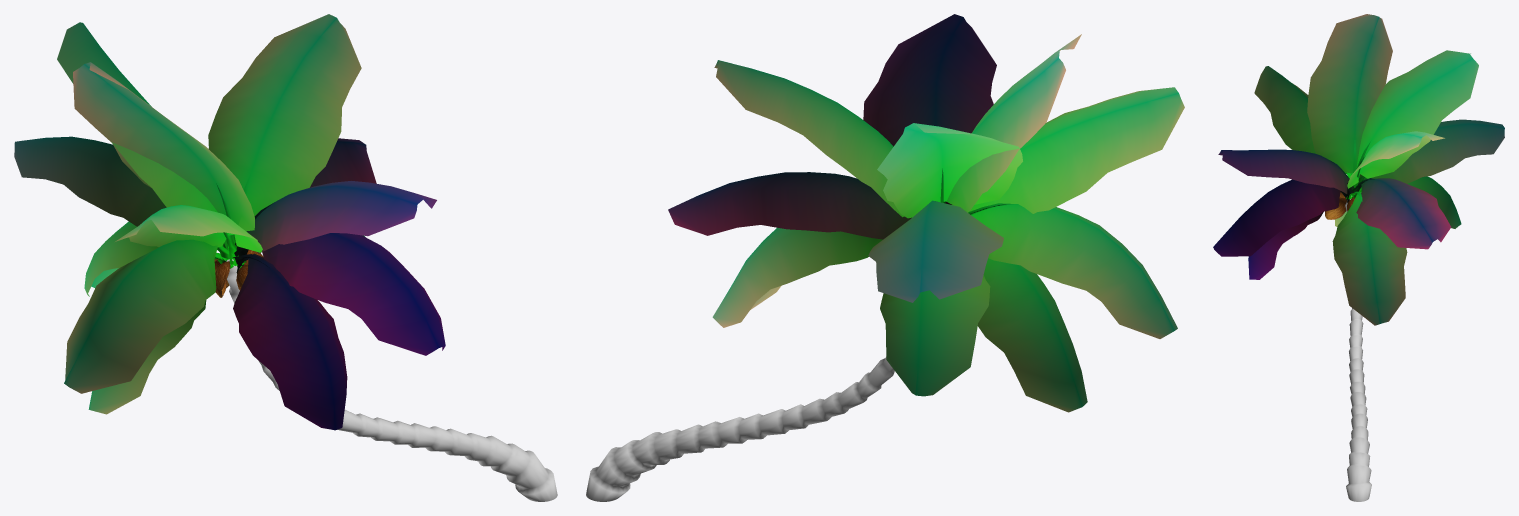
File: coconut palm 01.fbx
3 views of the same model, side by side, from view 1: azimuth 30°, elevation 25°; view 2: azimuth 150°, elevation 25°; view 3: azimuth 270°, elevation 25° (orthographic). The views are drawn at different scales.
Parts seen in each view (by area): view 1: Tree_1, Tree_0, Tree_2, Tree_3; view 2: Tree_1, Tree_0; view 3: Tree_1, Tree_0, Tree_2, Tree_3.
Boxes of the visible parts, x1,y1,x2,y2 form: Tree_1: (14,14,445,430); Tree_0: (225,259,557,501); Tree_2: (214,171,273,273); Tree_3: (214,249,263,297); Tree_1: (668,14,1184,412); Tree_0: (586,357,894,501); Tree_1: (1213,14,1504,325); Tree_0: (1345,196,1371,501); Tree_2: (1330,140,1374,202); Tree_3: (1325,192,1354,219).
Size of the model in its own units: 555 by 542 by 417.
